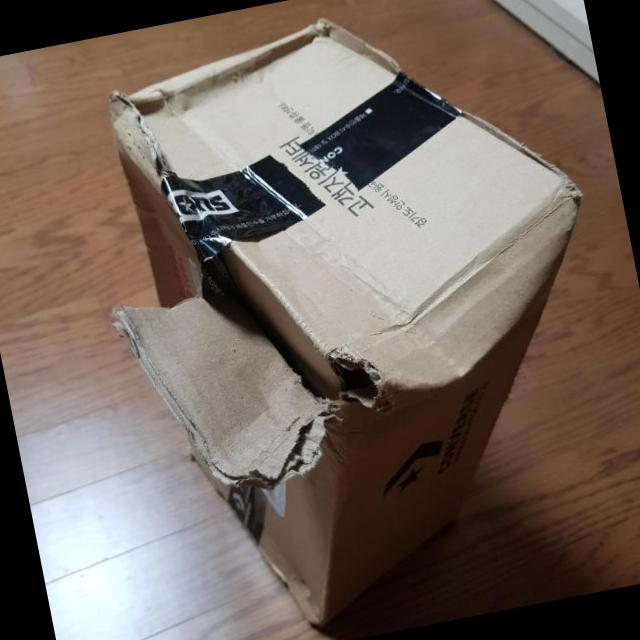box: (36, 72, 604, 566)
opened: (36, 72, 605, 566)
